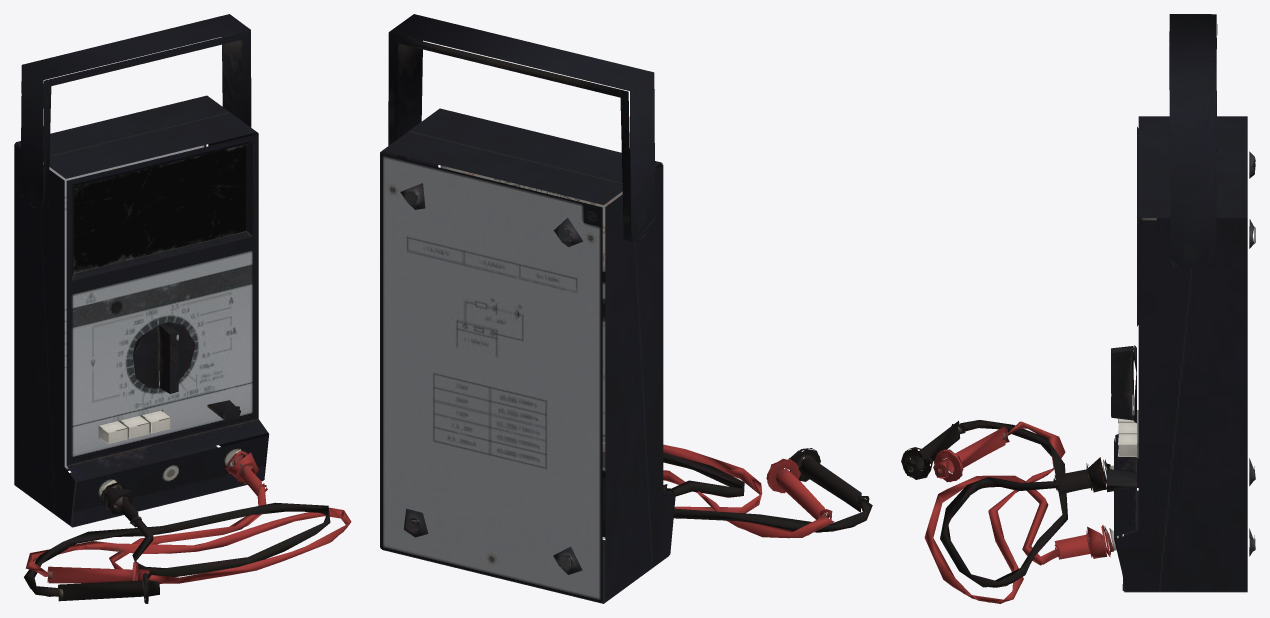
The model's file is retro_multimeter.glb.
The picture shows the model from 3 angles, left to right: view 1: azimuth 30°, elevation 25°; view 2: azimuth 150°, elevation 25°; view 3: azimuth 270°, elevation 25°; orthographic projection. The views are drawn at different scales.
Visible parts, largest first — view 1: retro_multimeter; view 2: retro_multimeter; view 3: retro_multimeter.
Part boxes in pixels (x1=…): retro_multimeter: x1=14, y1=14, x2=351, y2=603; retro_multimeter: x1=380, y1=14, x2=872, y2=603; retro_multimeter: x1=901, y1=14, x2=1255, y2=603.
Bounding box in the file's own units: 0.2141 × 0.2784 × 0.1892.
Materials: 2 (2 with a texture image).
